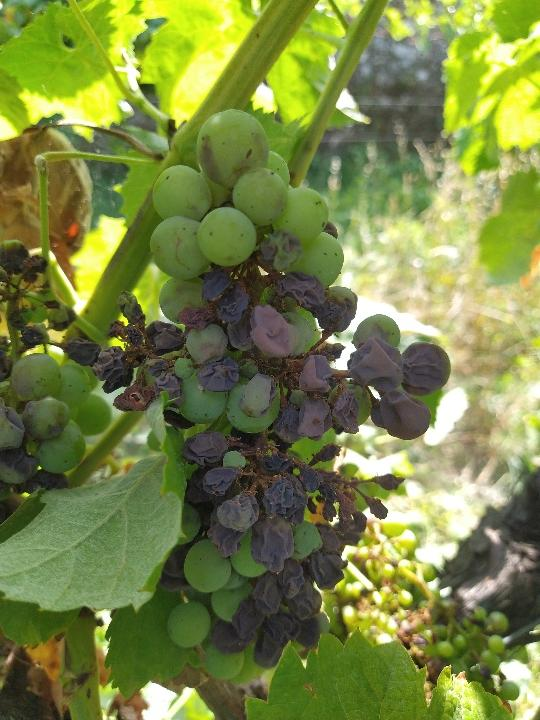grape: (93, 106, 455, 692)
